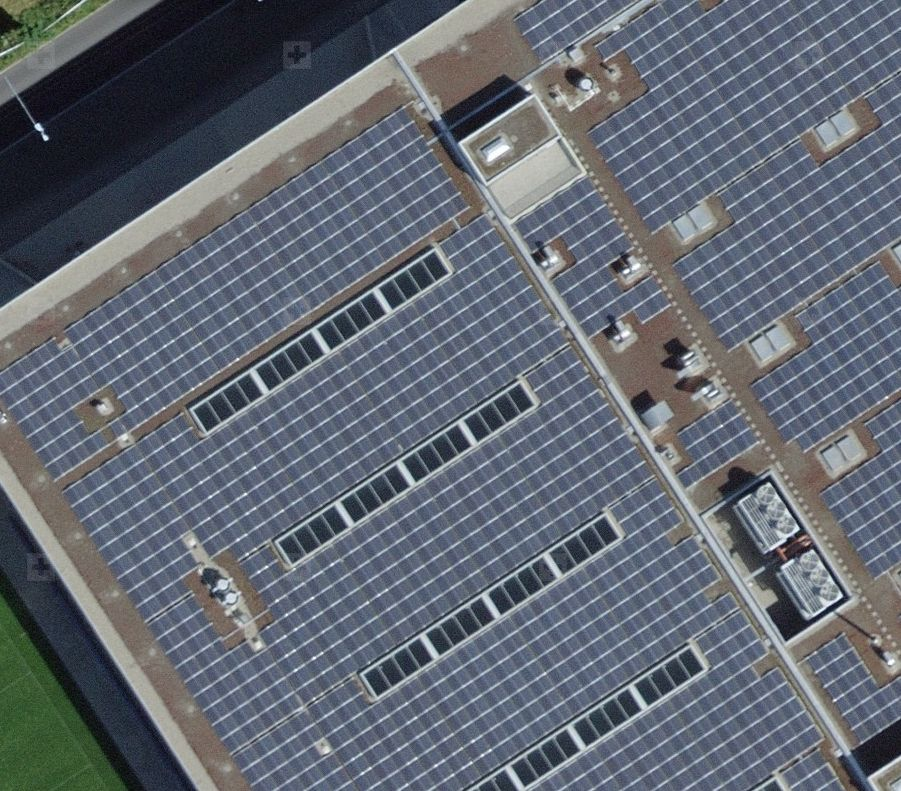solar: (1, 1, 901, 790)
